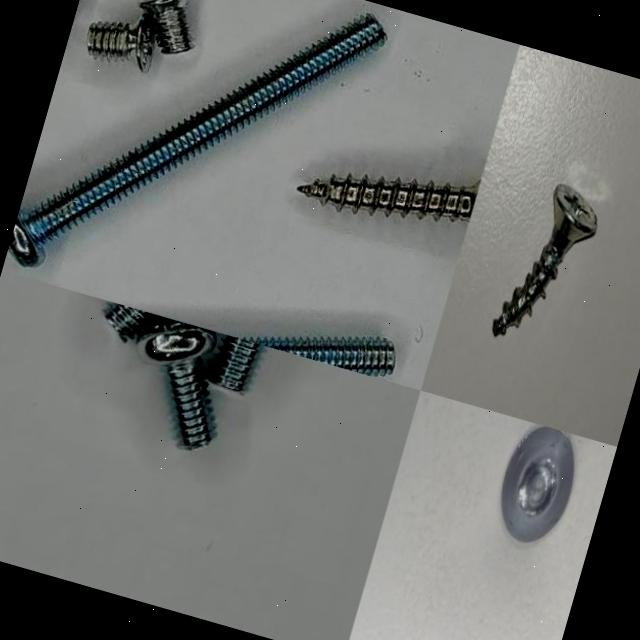Screw: (8, 15, 386, 267), (492, 183, 597, 335), (144, 322, 215, 448), (297, 174, 481, 222), (501, 425, 574, 541), (85, 17, 151, 71), (139, 0, 193, 52), (209, 335, 260, 390)
